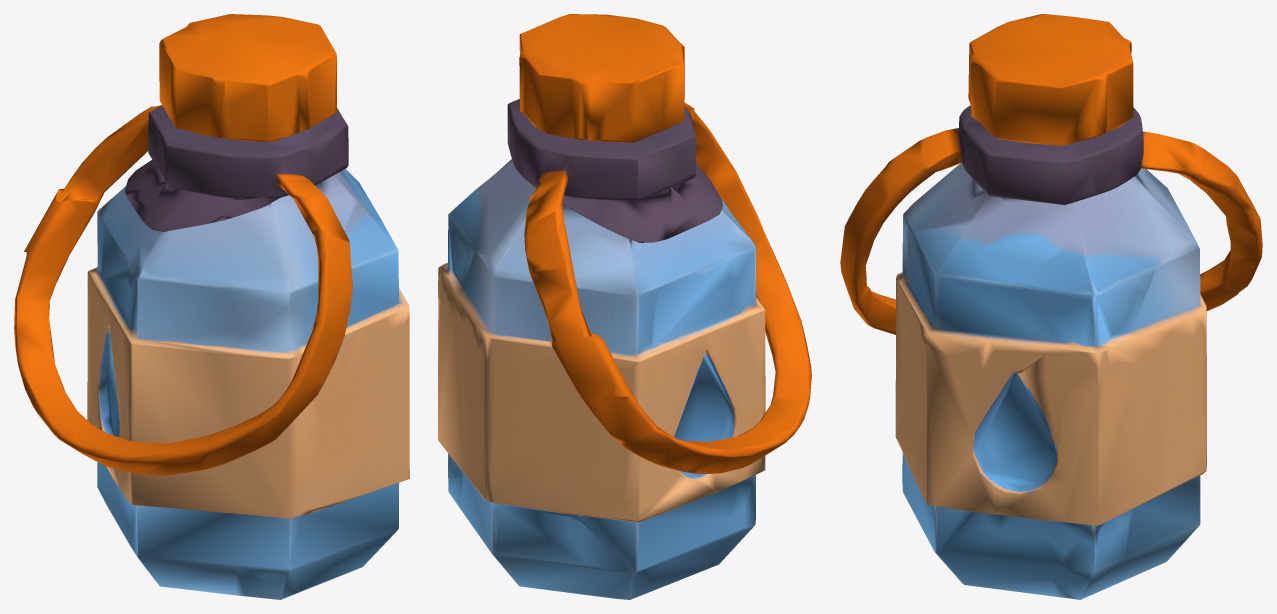
Rendered from cantimplora.glb.
3 views of the same model, side by side, from view 1: azimuth 30°, elevation 25°; view 2: azimuth 150°, elevation 25°; view 3: azimuth 270°, elevation 25° (orthographic).
Visible parts, largest first — view 1: tripo_node_e1471816-7c70-47b9-960b-4bf00e571a7d; view 2: tripo_node_e1471816-7c70-47b9-960b-4bf00e571a7d; view 3: tripo_node_e1471816-7c70-47b9-960b-4bf00e571a7d.
Part boxes in pixels (box(x1,y1,x2,y2)): tripo_node_e1471816-7c70-47b9-960b-4bf00e571a7d: box(14, 14, 409, 599); tripo_node_e1471816-7c70-47b9-960b-4bf00e571a7d: box(438, 14, 811, 599); tripo_node_e1471816-7c70-47b9-960b-4bf00e571a7d: box(840, 14, 1262, 599).
Bounding box in the file's own units: 0.6763 × 0.9988 × 0.7605.
1 material, 1 textured.
